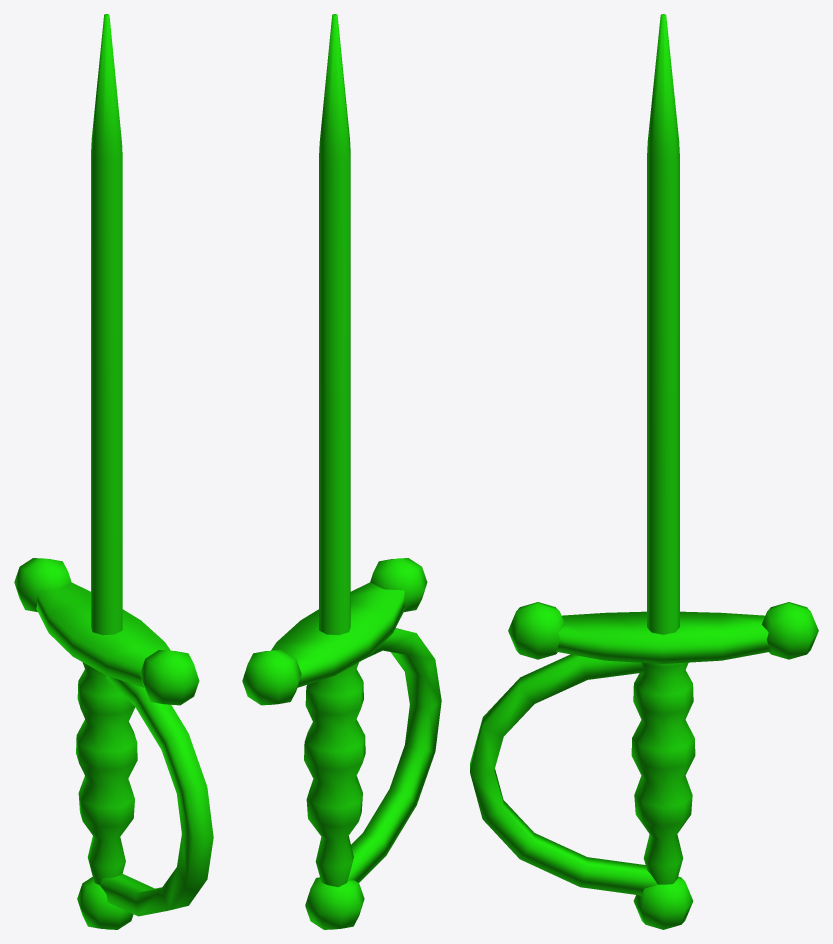
The model's file is cocktailSword.fbx.
3 views of the same model, side by side, from view 1: azimuth 30°, elevation 25°; view 2: azimuth 150°, elevation 25°; view 3: azimuth 270°, elevation 25° (orthographic).
Visible parts, largest first — view 1: CocktailSword; view 2: CocktailSword; view 3: CocktailSword.
Part boxes in pixels (left/top/right/bottom): CocktailSword: left=14, top=14, right=213, bottom=929; CocktailSword: left=242, top=14, right=441, bottom=929; CocktailSword: left=470, top=14, right=818, bottom=929.
Size of the model in its own units: 47.75 by 611 by 211.
